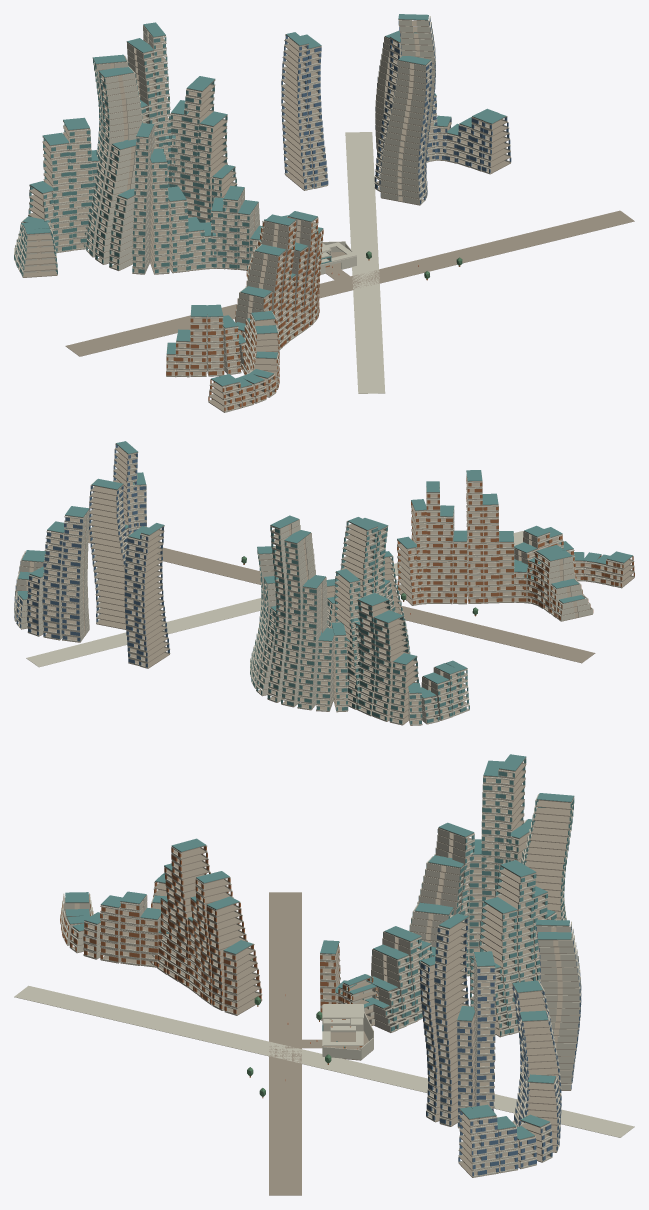
3 views of the same model, one above another, from view 1: azimuth 30°, elevation 25°; view 2: azimuth 150°, elevation 25°; view 3: azimuth 270°, elevation 25° (orthographic). The views are drawn at different scales.
Parts seen in each view (by area): view 1: LIVING_ACTUAL_WINDOW_WALLS, LIVING_DEEP_OCCUPIED_FLOORS, RESEARCH_ACTUAL_WINDOW_WALLS, MAKER_ACTUAL_WINDOW_WALLS, LIVING_OCCUPIED_FACADE_PANELS, CIVIC_AXIS_B_ACTUAL_STREET, CIVIC_AXIS_A_ACTUAL_STREET, RESEARCH_DEEP_OCCUPIED_FLOORS, LIVING_COURT_BRANCH_DEEP_OCCUPIED_FLOORS, MAKER_DEEP_OCCUPIED_FLOORS, LIVING_COURT_BRANCH_ACTUAL_WINDOW_WALLS, LIVING_COURT_ROOFS (+14 smaller); view 2: LIVING_ACTUAL_WINDOW_WALLS, RESEARCH_DEEP_OCCUPIED_FLOORS, LIVING_DEEP_OCCUPIED_FLOORS, MAKER_ACTUAL_WINDOW_WALLS, MAKER_DEEP_OCCUPIED_FLOORS, LIVING_OCCUPIED_FACADE_PANELS, RESEARCH_COURT_BRANCH_ACTUAL_WINDOW_WALLS, LIVING_COURT_BRANCH_ACTUAL_WINDOW_WALLS, LIVING_COURT_BRANCH_DEEP_OCCUPIED_FLOORS, MAKER_OCCUPIED_FACADE_PANELS, CIVIC_AXIS_A_ACTUAL_STREET, RESEARCH_ACTUAL_WINDOW_WALLS (+14 smaller); view 3: LIVING_DEEP_OCCUPIED_FLOORS, LIVING_ACTUAL_WINDOW_WALLS, CIVIC_AXIS_A_ACTUAL_STREET, RESEARCH_ACTUAL_WINDOW_WALLS, RESEARCH_DEEP_OCCUPIED_FLOORS, MAKER_DEEP_OCCUPIED_FLOORS, CIVIC_AXIS_B_ACTUAL_STREET, RESEARCH_COURT_BRANCH_DEEP_OCCUPIED_FLOORS, LIVING_OCCUPIED_FACADE_PANELS, MAKER_ACTUAL_WINDOW_WALLS, MAKER_OCCUPIED_FACADE_PANELS, LIVING_COURT_ROOFS (+10 smaller).
Boxes of the visible parts, x1=… form: LIVING_ACTUAL_WINDOW_WALLS: x1=83, y1=25, x2=260, y2=274; LIVING_DEEP_OCCUPIED_FLOORS: x1=87, y1=25, x2=259, y2=274; RESEARCH_ACTUAL_WINDOW_WALLS: x1=281, y1=16, x2=435, y2=204; MAKER_ACTUAL_WINDOW_WALLS: x1=166, y1=216, x2=323, y2=376; LIVING_OCCUPIED_FACADE_PANELS: x1=84, y1=37, x2=252, y2=273; CIVIC_AXIS_B_ACTUAL_STREET: x1=345, y1=132, x2=385, y2=393; CIVIC_AXIS_A_ACTUAL_STREET: x1=65, y1=210, x2=634, y2=356; RESEARCH_DEEP_OCCUPIED_FLOORS: x1=281, y1=16, x2=434, y2=205; LIVING_COURT_BRANCH_DEEP_OCCUPIED_FLOORS: x1=15, y1=120, x2=103, y2=277; MAKER_DEEP_OCCUPIED_FLOORS: x1=166, y1=216, x2=322, y2=377; LIVING_COURT_BRANCH_ACTUAL_WINDOW_WALLS: x1=14, y1=121, x2=102, y2=277; LIVING_COURT_ROOFS: x1=92, y1=22, x2=263, y2=239; LIVING_ACTUAL_WINDOW_WALLS: x1=250, y1=519, x2=410, y2=711; RESEARCH_DEEP_OCCUPIED_FLOORS: x1=89, y1=444, x2=169, y2=668; LIVING_DEEP_OCCUPIED_FLOORS: x1=252, y1=519, x2=408, y2=712; MAKER_ACTUAL_WINDOW_WALLS: x1=344, y1=472, x2=593, y2=621; MAKER_DEEP_OCCUPIED_FLOORS: x1=345, y1=476, x2=592, y2=621; LIVING_OCCUPIED_FACADE_PANELS: x1=250, y1=522, x2=410, y2=710; RESEARCH_COURT_BRANCH_ACTUAL_WINDOW_WALLS: x1=14, y1=509, x2=89, y2=642; LIVING_COURT_BRANCH_ACTUAL_WINDOW_WALLS: x1=334, y1=596, x2=469, y2=725; LIVING_COURT_BRANCH_DEEP_OCCUPIED_FLOORS: x1=347, y1=600, x2=469, y2=725; MAKER_OCCUPIED_FACADE_PANELS: x1=397, y1=478, x2=593, y2=619; CIVIC_AXIS_A_ACTUAL_STREET: x1=88, y1=530, x2=595, y2=663; RESEARCH_ACTUAL_WINDOW_WALLS: x1=89, y1=443, x2=170, y2=668; LIVING_DEEP_OCCUPIED_FLOORS: x1=371, y1=757, x2=574, y2=1037; LIVING_ACTUAL_WINDOW_WALLS: x1=366, y1=758, x2=574, y2=1036; CIVIC_AXIS_A_ACTUAL_STREET: x1=269, y1=892, x2=301, y2=1195; RESEARCH_ACTUAL_WINDOW_WALLS: x1=420, y1=918, x2=581, y2=1127; RESEARCH_DEEP_OCCUPIED_FLOORS: x1=420, y1=917, x2=580, y2=1128; MAKER_DEEP_OCCUPIED_FLOORS: x1=152, y1=845, x2=377, y2=1025; CIVIC_AXIS_B_ACTUAL_STREET: x1=14, y1=985, x2=634, y2=1137; RESEARCH_COURT_BRANCH_DEEP_OCCUPIED_FLOORS: x1=458, y1=984, x2=560, y2=1177; LIVING_OCCUPIED_FACADE_PANELS: x1=372, y1=759, x2=574, y2=1035; MAKER_ACTUAL_WINDOW_WALLS: x1=149, y1=845, x2=378, y2=1022; MAKER_OCCUPIED_FACADE_PANELS: x1=150, y1=846, x2=378, y2=1018; LIVING_COURT_ROOFS: x1=362, y1=754, x2=573, y2=1008.
Bounding box in the file's own units: 570 × 181 × 494.
